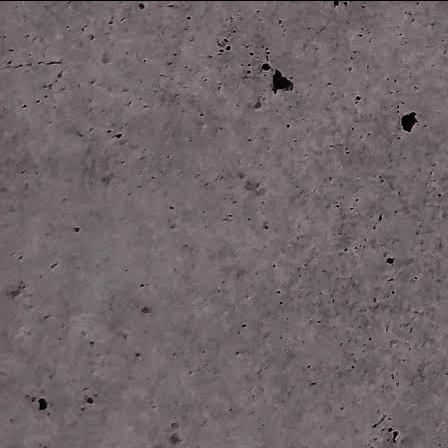spalling: (259, 65, 299, 104), (393, 105, 424, 136)
